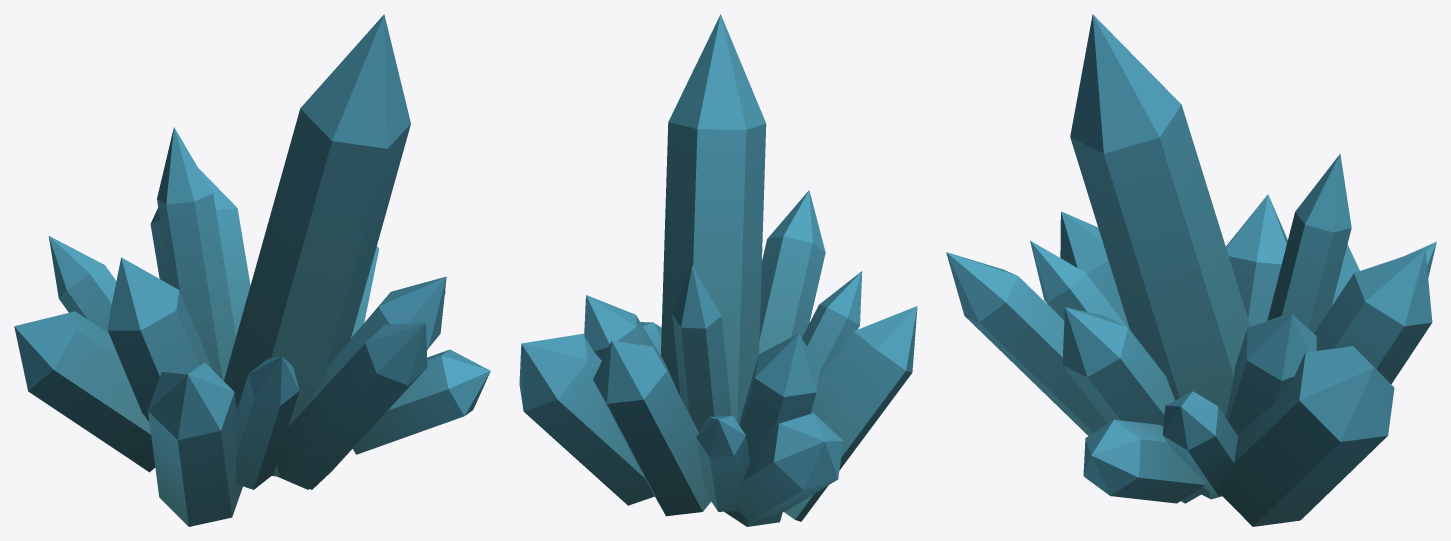
File: CrystalCluster_Medium7.fbx
3 renders of one model, left to right at view 1: azimuth 30°, elevation 25°; view 2: azimuth 150°, elevation 25°; view 3: azimuth 270°, elevation 25°, orthographic. The views are drawn at different scales.
Parts seen in each view (by area): view 1: CrystalCluster_Medium7; view 2: CrystalCluster_Medium7; view 3: CrystalCluster_Medium7.
Part boxes in pixels (left/top/right/bottom): CrystalCluster_Medium7: left=14, top=14, right=490, bottom=526; CrystalCluster_Medium7: left=519, top=14, right=917, bottom=526; CrystalCluster_Medium7: left=946, top=14, right=1436, bottom=526.
Size of the model in its own units: 143 by 197 by 167.
